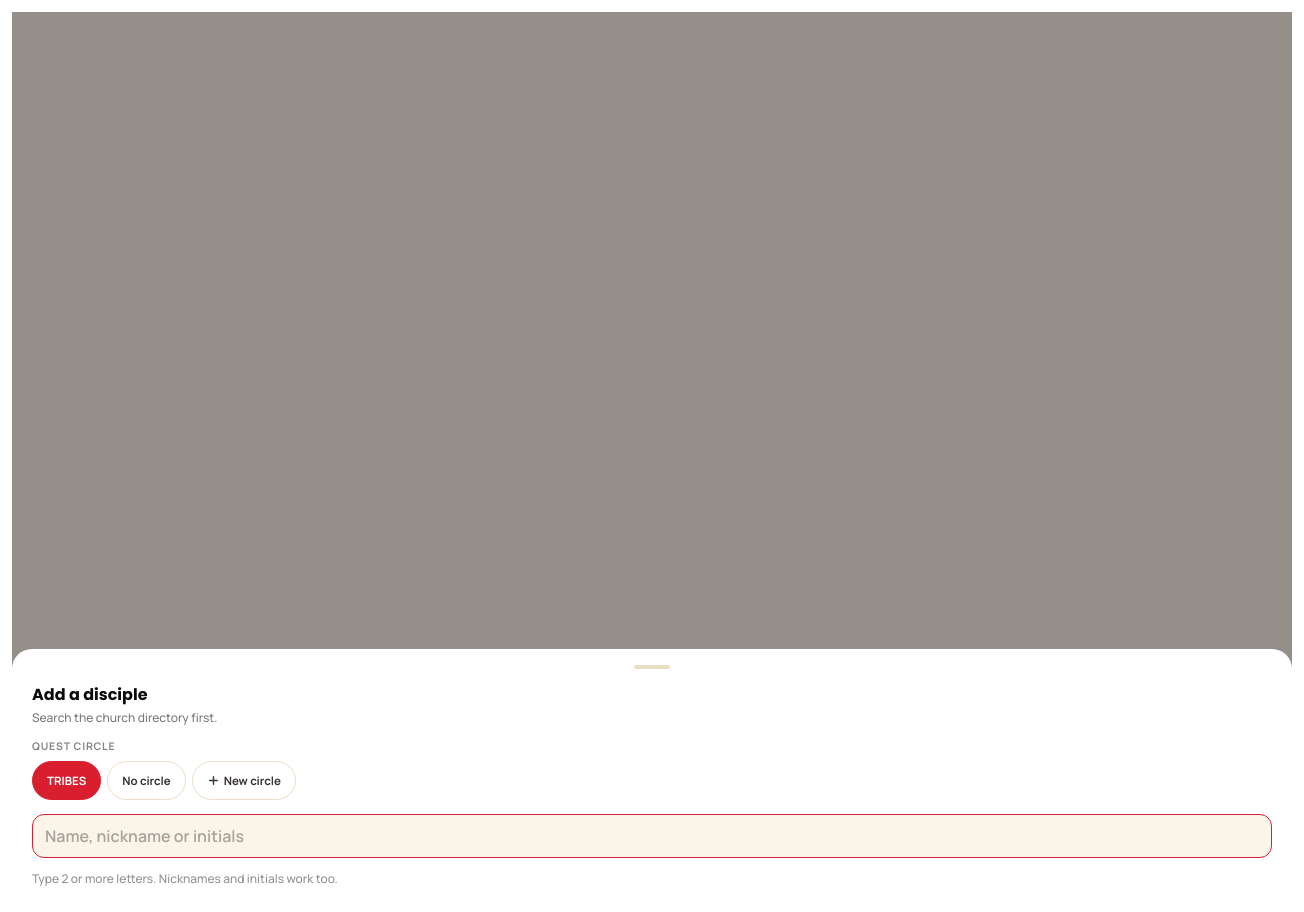
add sheet Quest Circle field (demo) › shows one selected chip, and New circle never as a choice
The width and height of the screenshot is (1304, 912).
Step 1. Type "Juan Carlos Mendoza" into the field named "Search the church directory" → (652, 836), box [32,814,1272,858]
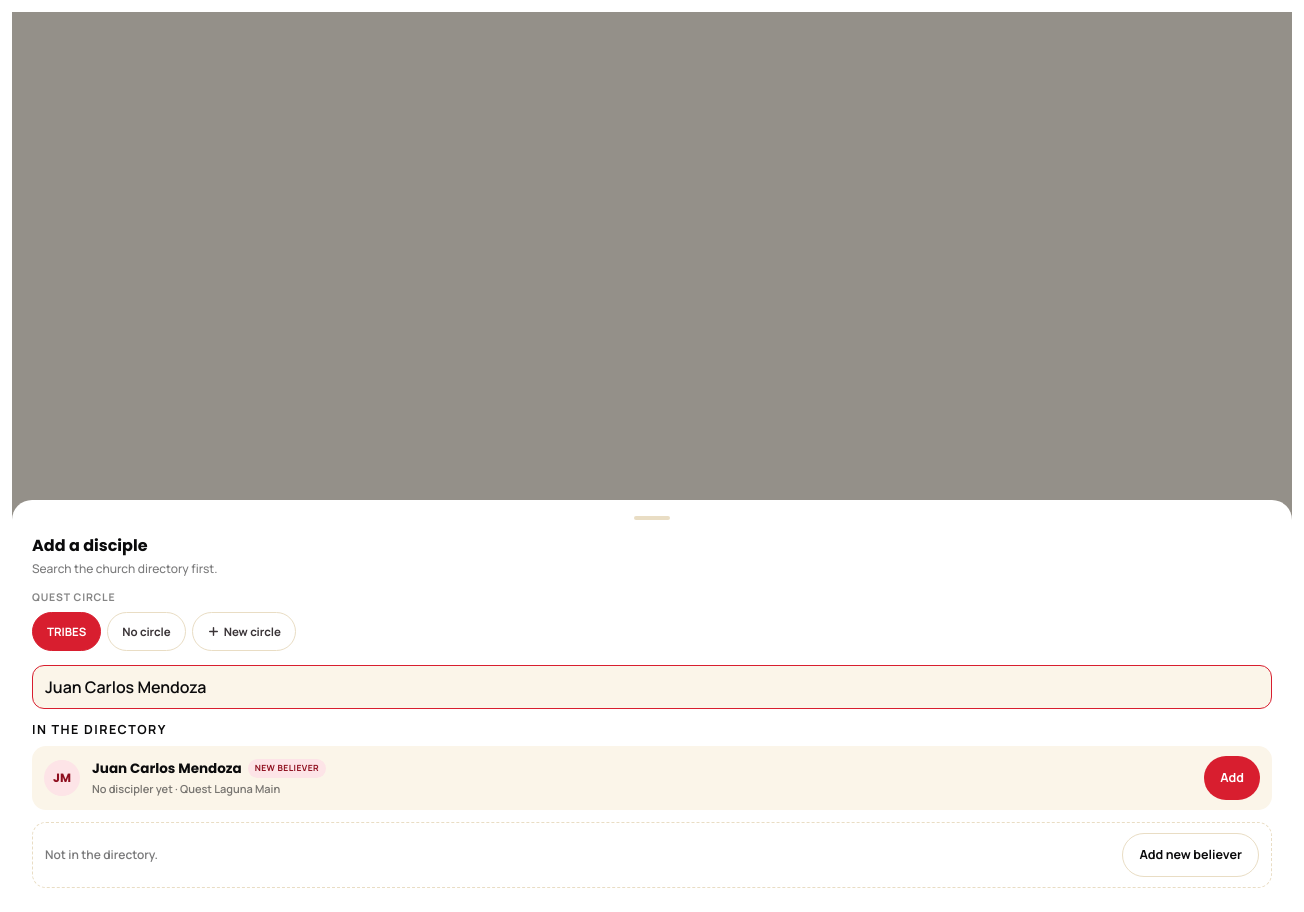
Step 2. Click the button "No circle" → (146, 631), box [107,612,186,651]
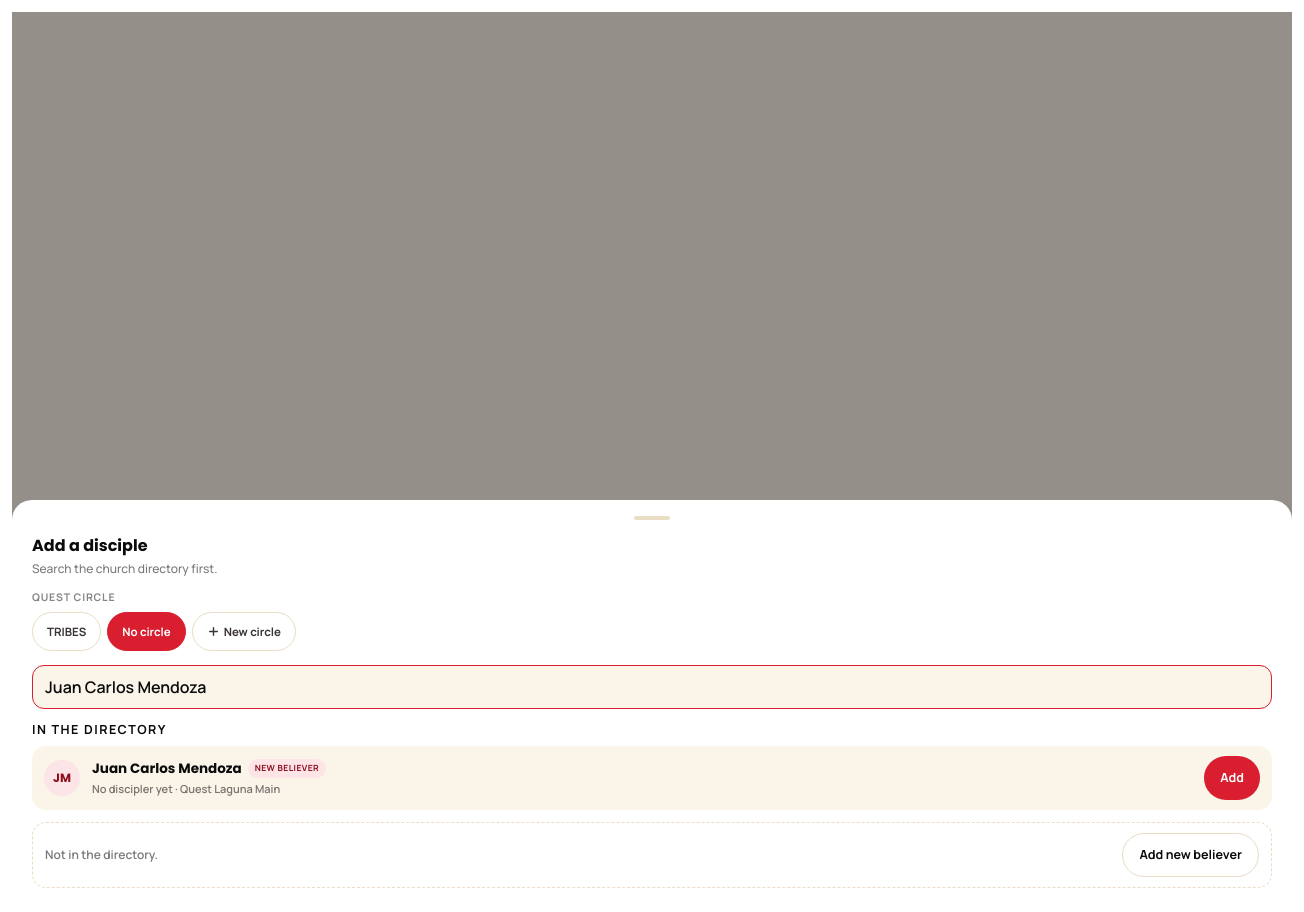
Step 3. Click the button "New circle" → (244, 631), box [192,612,296,651]
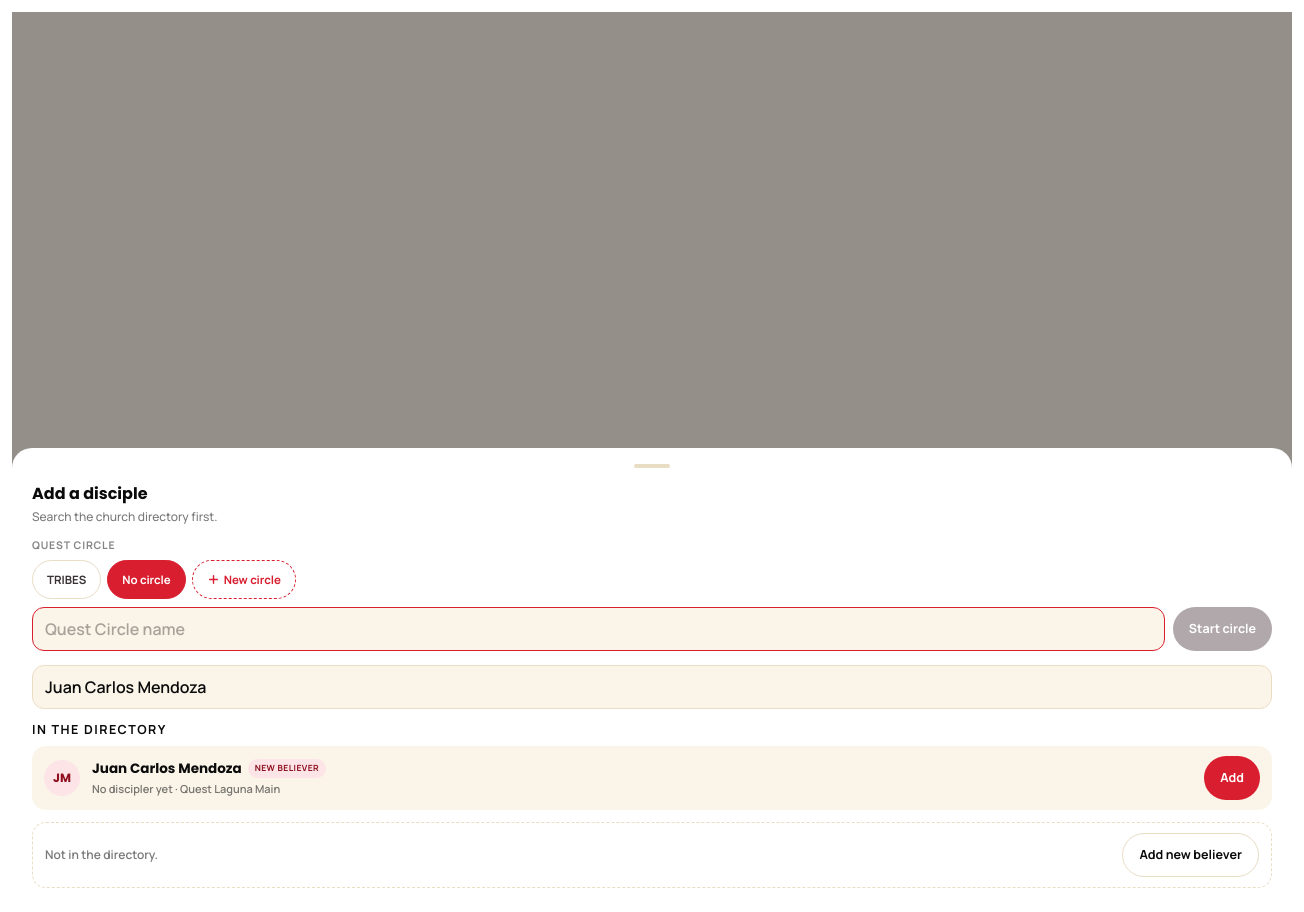
Expected: the button "No circle" is shown, [107,560,186,599]
Expected: the button "New circle" is expanded, [192,560,296,599]
